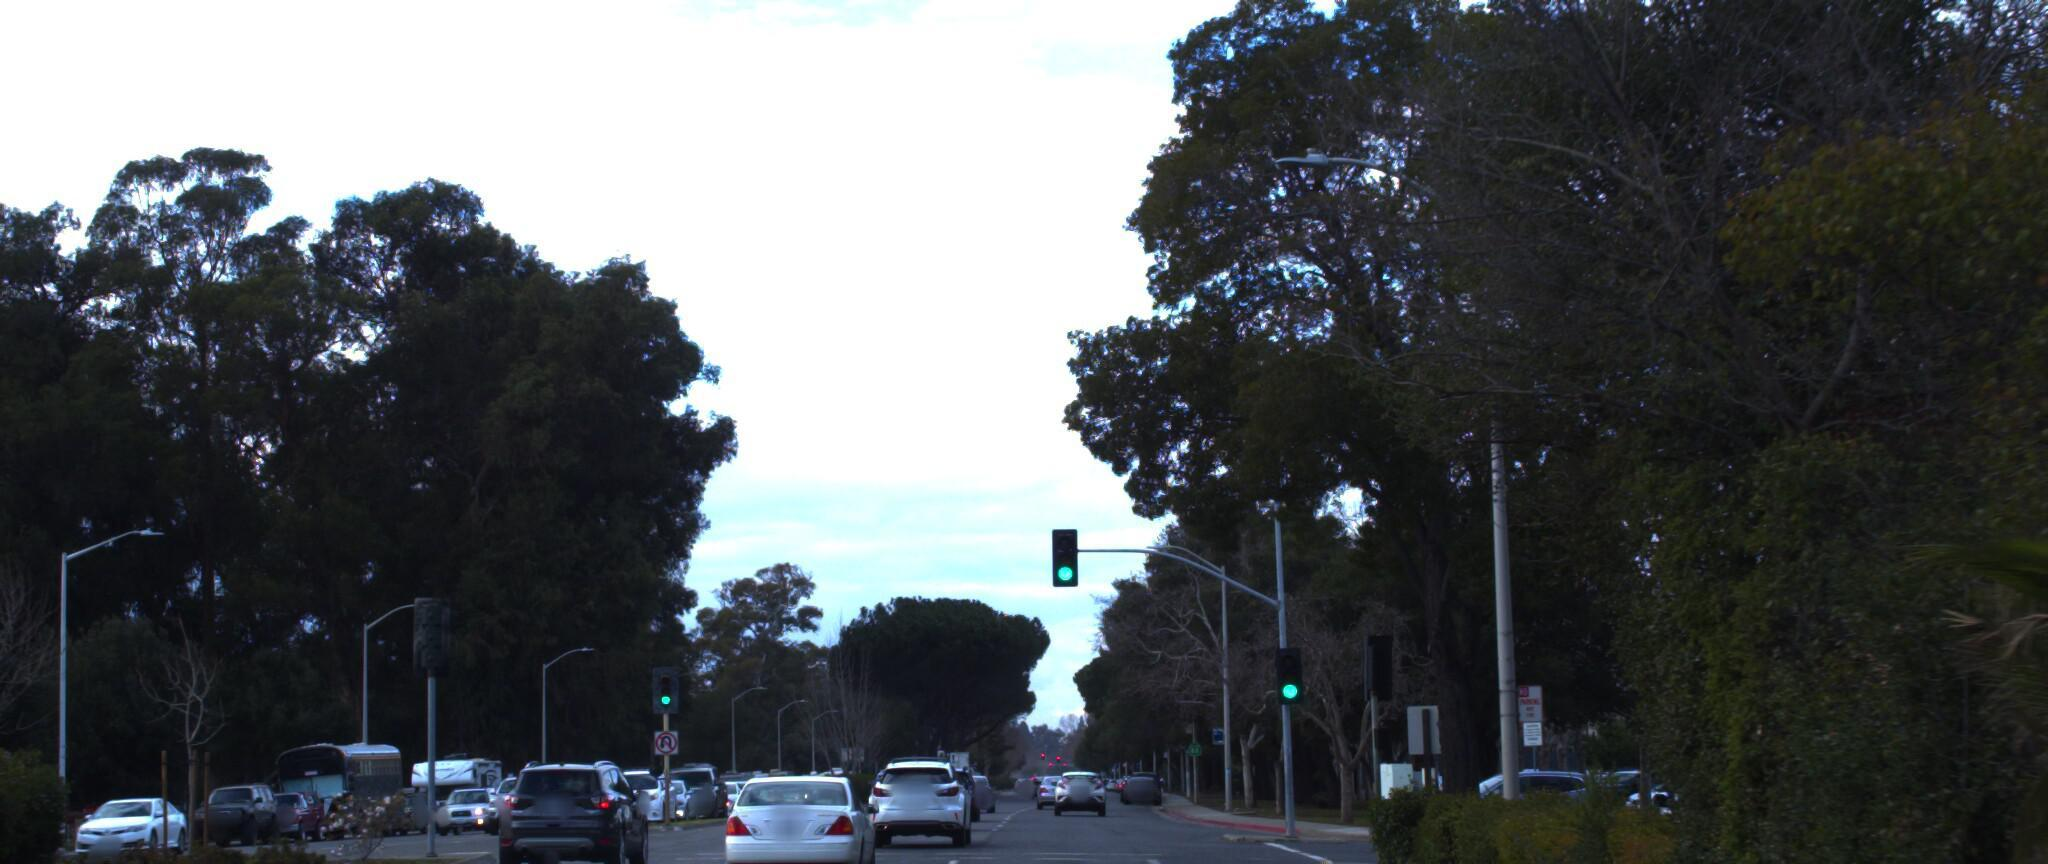car: (720, 735, 888, 864), (494, 743, 657, 864), (50, 790, 195, 864), (856, 750, 961, 842)
